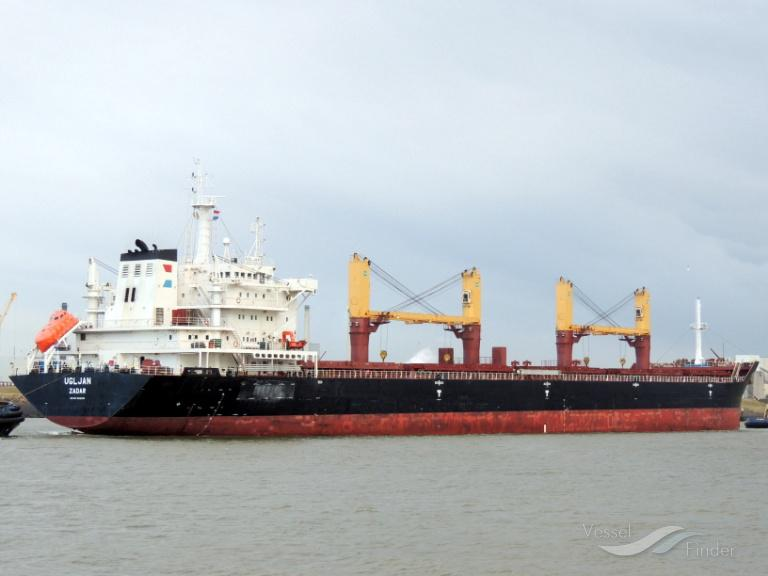OCR: (60, 366, 94, 406)
